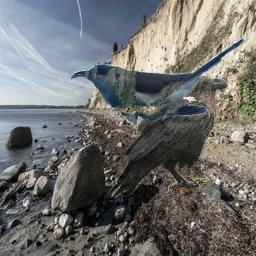Crow: (107, 75, 228, 199)
Cuckoo: (71, 36, 250, 125)
